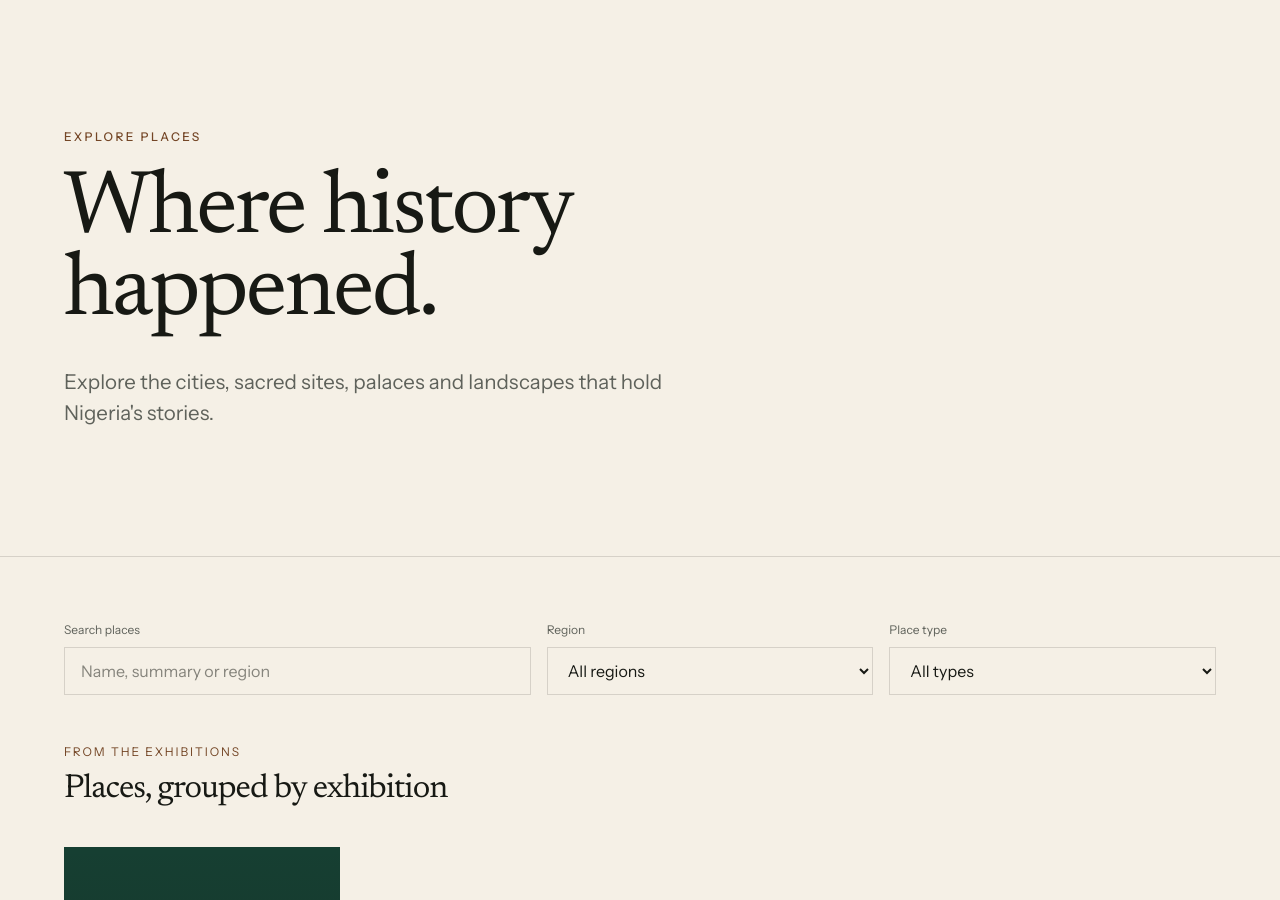
places page › goes back to the plain list while searching
The image size is (1280, 900).
Type "market" into the search field labelled "Search places" at coordinates (297, 671), box [64,647,531,695]
(page scrolled)
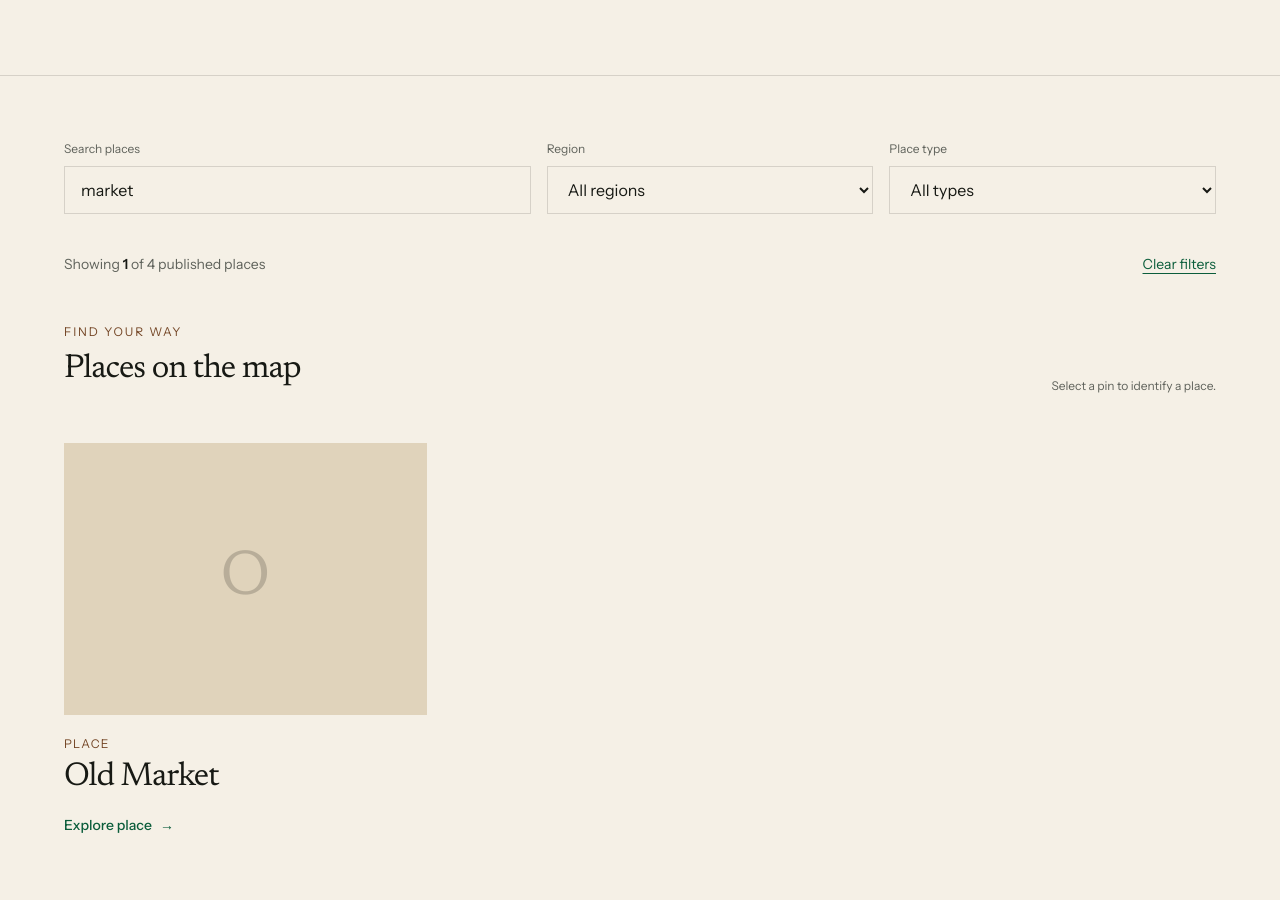
expect the heading "Old Market" is shown: met, box [64,761,219,794]
